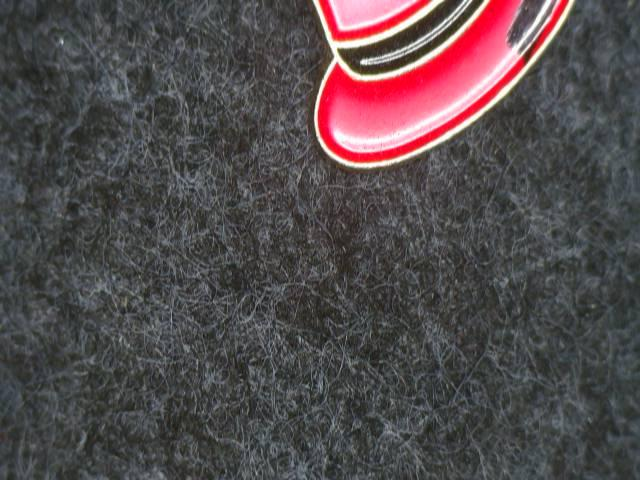Red-Hat: (290, 0, 600, 197)
Scratch: (497, 0, 587, 77)
